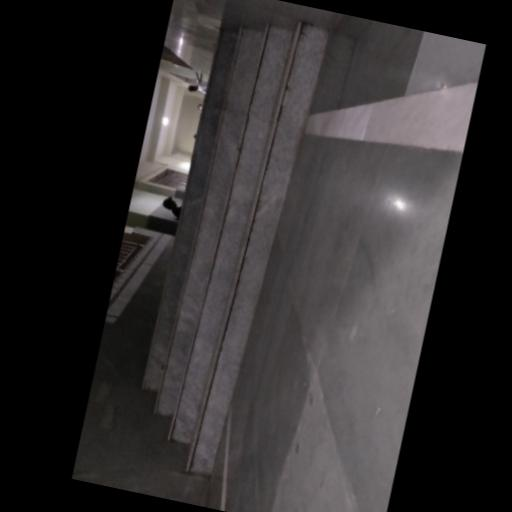stairs: (144, 25, 328, 475)
